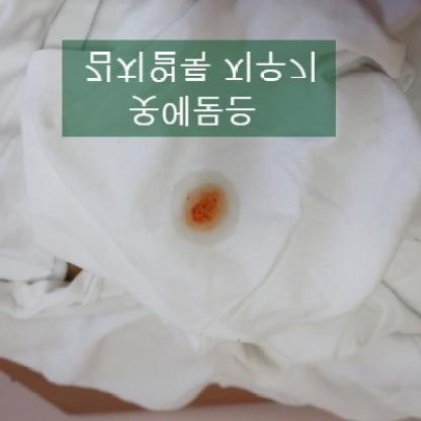kimchi: (174, 180, 228, 240)
